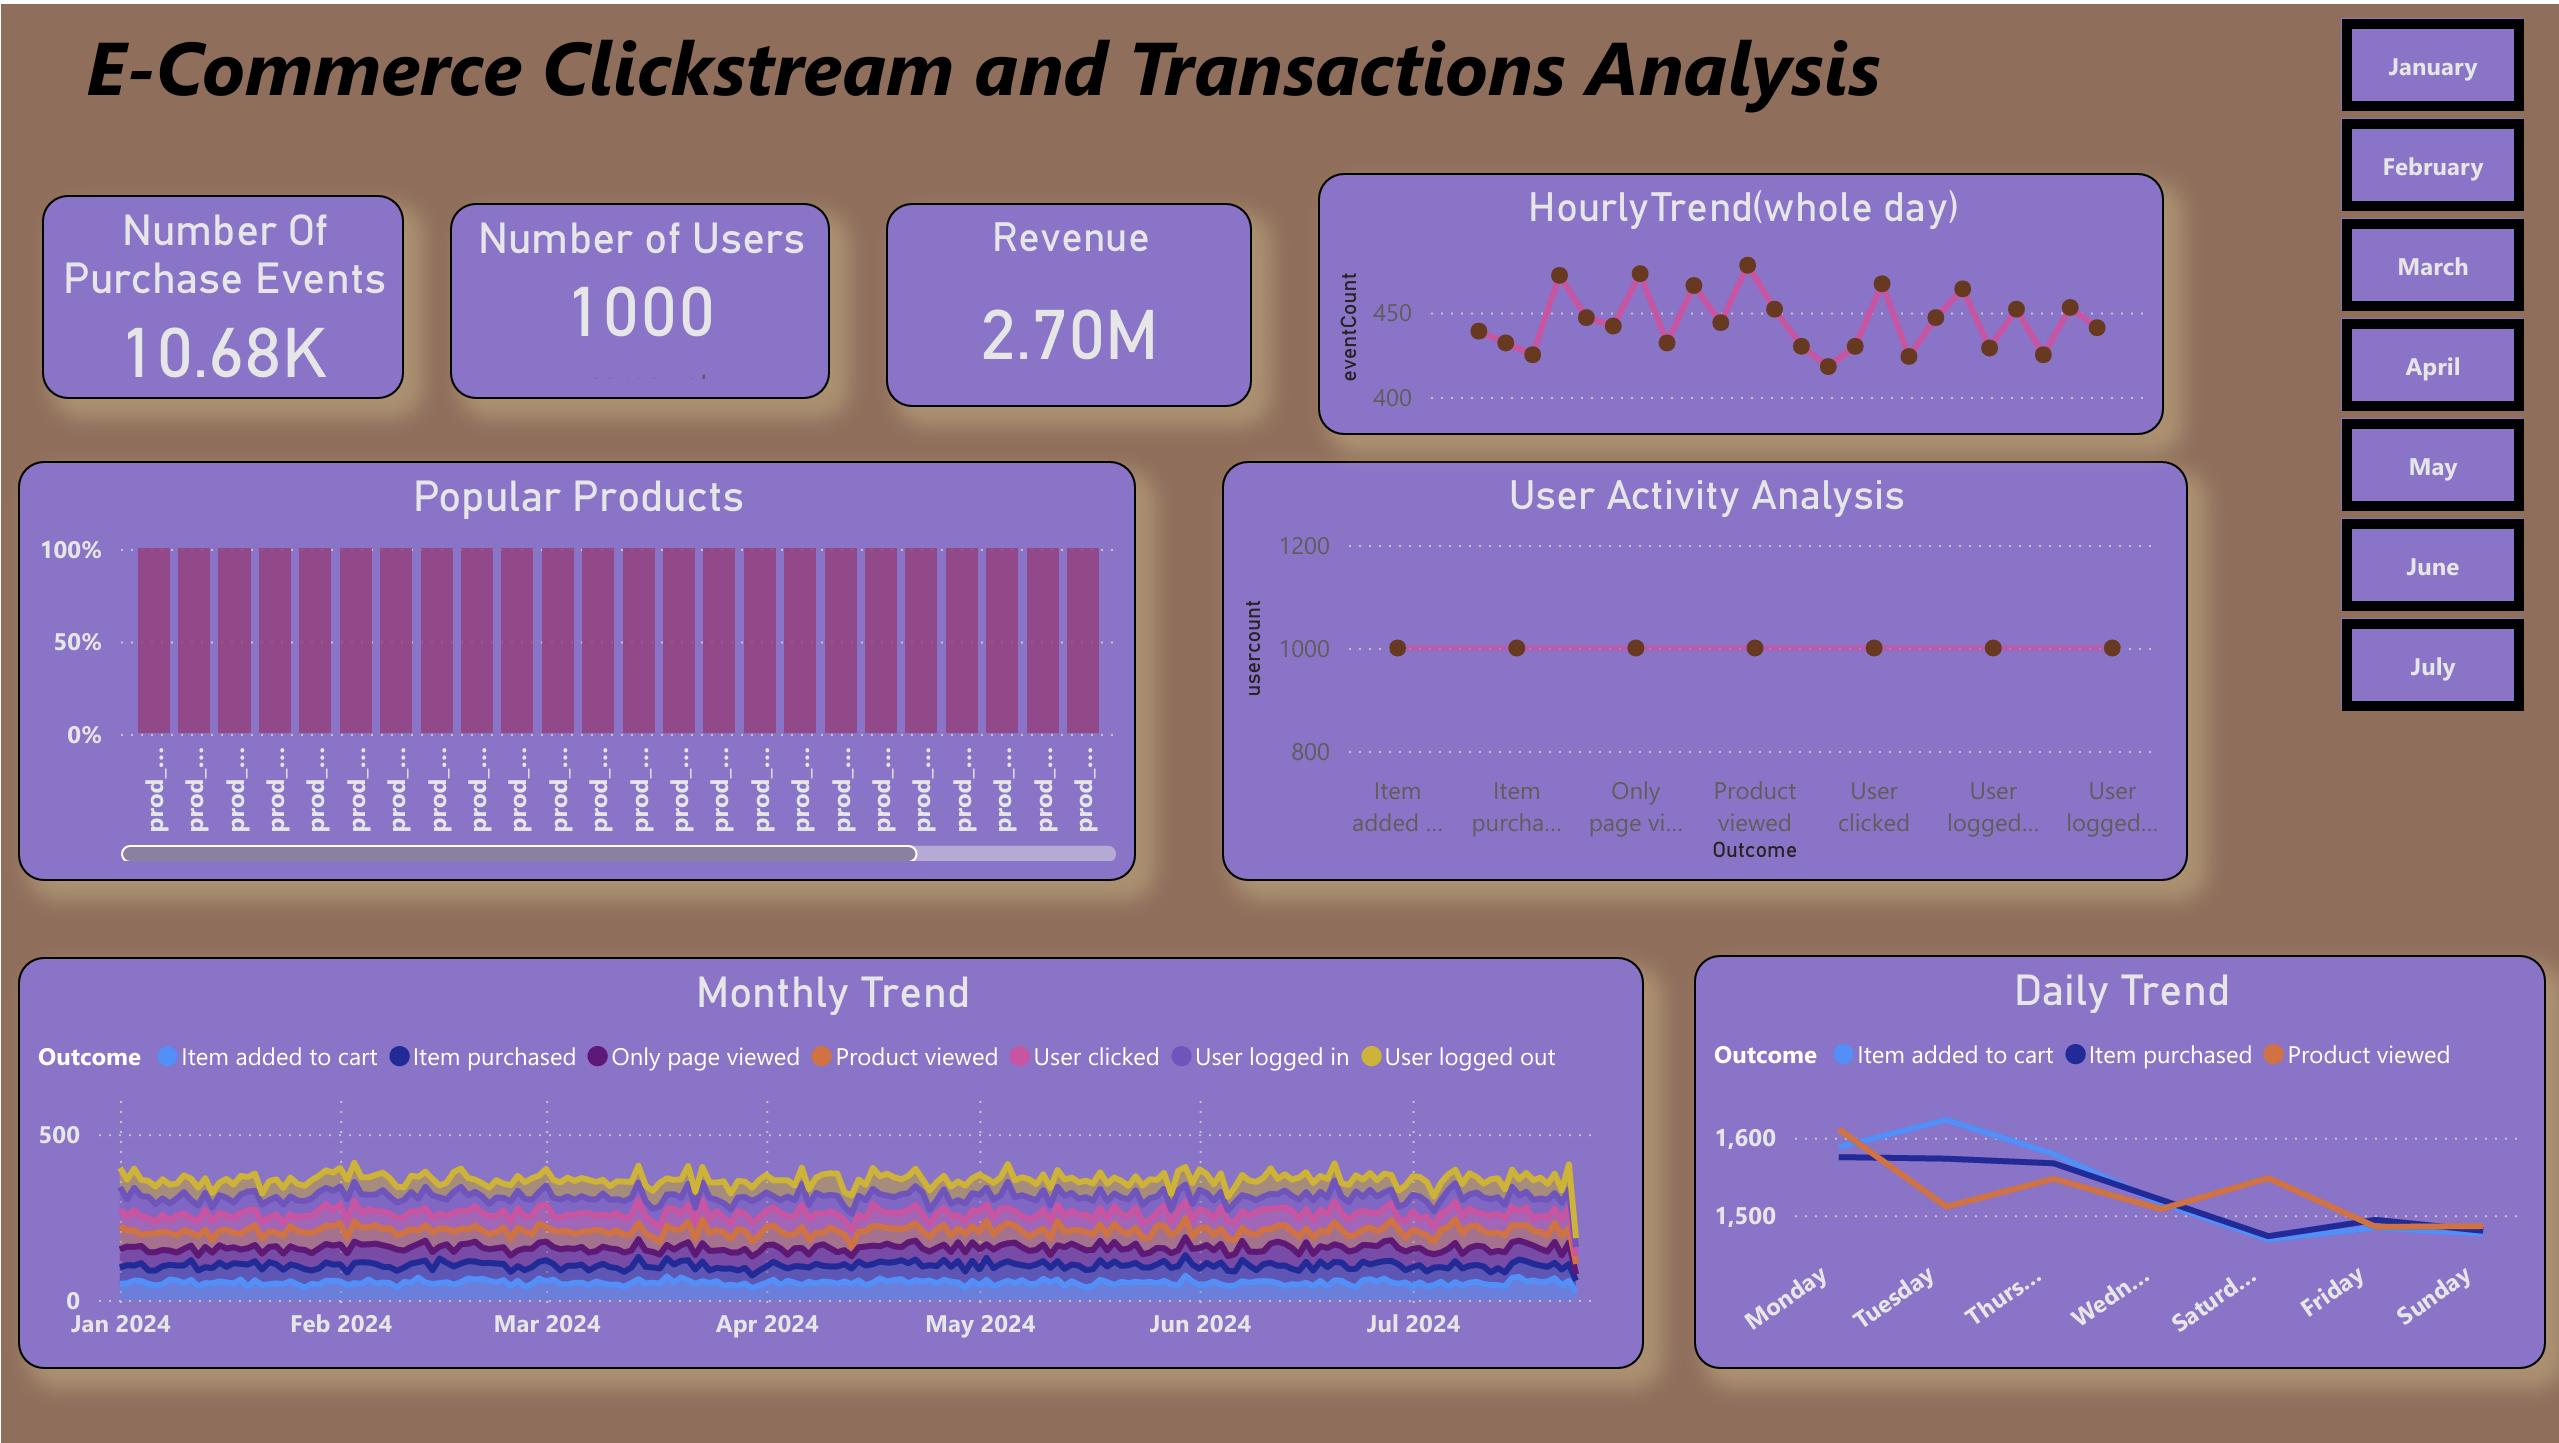

This screenshot's page, from the dashboard's own definition file:
{"tool":"powerbi","page":{"name":"Page 2","canvas":[1280,720],"ordinal":0},"visuals":[{"type":"slicer","fields":{"Values":["cleaneddata.Date.Variation.Date Hierarchy.Month"]},"box":[1144,0,141,360],"z":0},{"type":"stackedAreaChart","title":"Monthly Trend","fields":{"Category":["cleaneddata.Date"],"Y":["CountNonNull(cleaneddata.EventType)"],"Series":["cleaneddata.Outcome"]},"box":[8.1,476.1,812.5,205.7],"z":1000},{"type":"card","title":"Number of Users","fields":{"Values":["cleaneddata.usercount"]},"box":[224,99,190,98],"z":2000},{"type":"hundredPercentStackedColumnChart","title":"Popular Products","fields":{"Category":["cleaneddata.ProductID"],"Y":["CountNonNull(cleaneddata.ProductID)"]},"box":[8,228,559,210],"z":3000},{"type":"lineChart","title":"Daily Trend","fields":{"Category":["cleaneddata.DayOfWeek"],"Y":["CountNonNull(cleaneddata.Outcome)"],"Series":["cleaneddata.Outcome"]},"box":[846,475,426.5,206.9],"z":4000},{"type":"card","title":"Revenue","fields":{"Values":["Sum(cleaneddata.Amount)"]},"box":[442,99,183,102],"z":5000},{"type":"card","title":"Number Of Purchase Events","fields":{"Values":["CountNonNull(cleaneddata.EventType)"]},"box":[20,95,181,102],"z":6000},{"type":"lineChart","title":"User Activity Analysis","fields":{"Category":["cleaneddata.Outcome"],"Y":["cleaneddata.usercount"]},"box":[610,228,483,210],"z":7000},{"type":"textbox","box":[37,0,980,105],"z":8000},{"type":"lineChart","title":"HourlyTrend(whole day)","fields":{"Category":["cleaneddata.Hour"],"Y":["cleaneddata.eventCount"]},"box":[658,84,423,131],"z":9000}]}

Visuals, with their boxes in screenshot pixels (x1, y1, x2, y2), scaled from the page's 1280x720 canvas onto the 2559x1443 screenshot:
slicer - cleaneddata.Date.Variation.Date Hierarchy.Month: l=2287, t=0, r=2558, b=722
"Monthly Trend" stackedAreaChart: l=16, t=954, r=1641, b=1366
"Number of Users" card: l=448, t=198, r=828, b=395
"Popular Products" hundredPercentStackedColumnChart: l=16, t=457, r=1134, b=878
"Daily Trend" lineChart: l=1691, t=952, r=2544, b=1367
"Revenue" card: l=884, t=198, r=1250, b=403
"Number Of Purchase Events" card: l=40, t=190, r=402, b=395
"User Activity Analysis" lineChart: l=1220, t=457, r=2185, b=878
textbox: l=74, t=0, r=2033, b=210
"HourlyTrend(whole day)" lineChart: l=1315, t=168, r=2161, b=431
